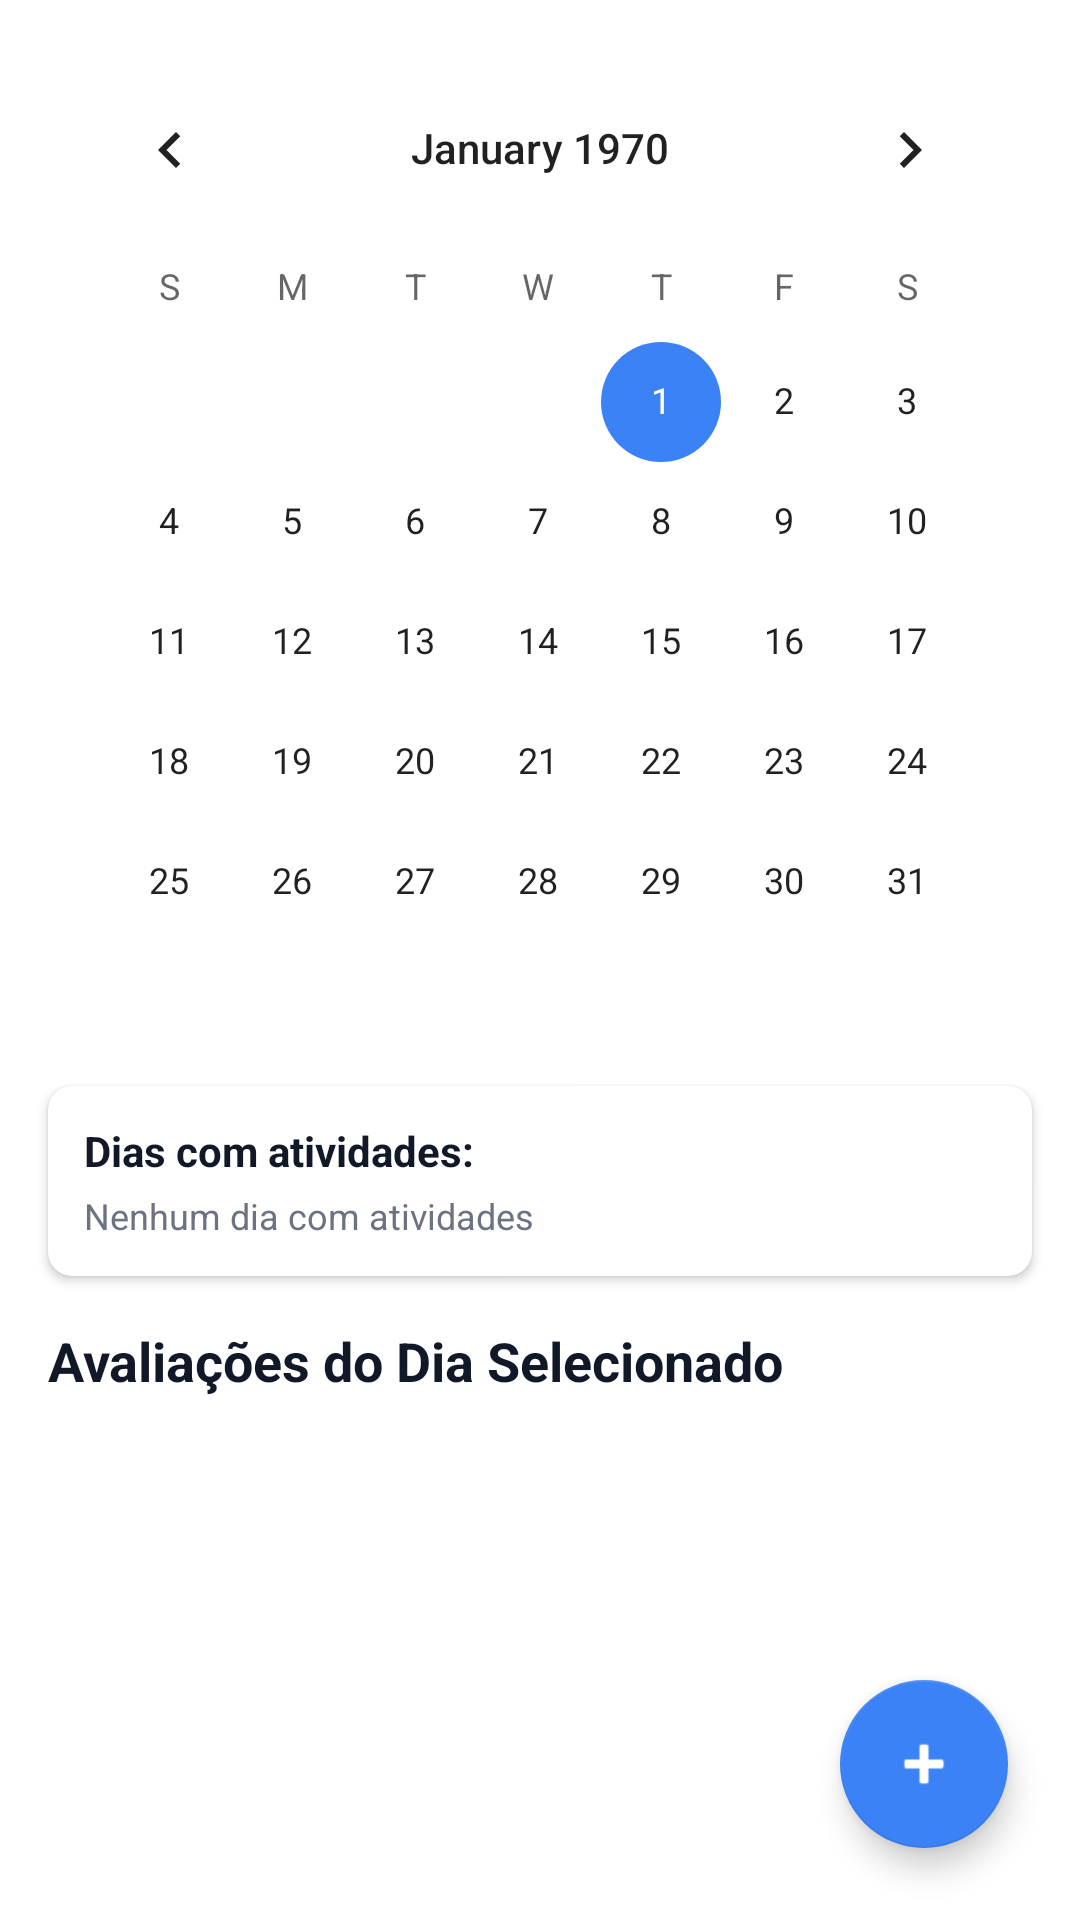

Icons on this 1080×1920 Android screen, each with its box as (x1, y1, x2, y2):
Nova Prova: (840, 1680, 1008, 1848)
